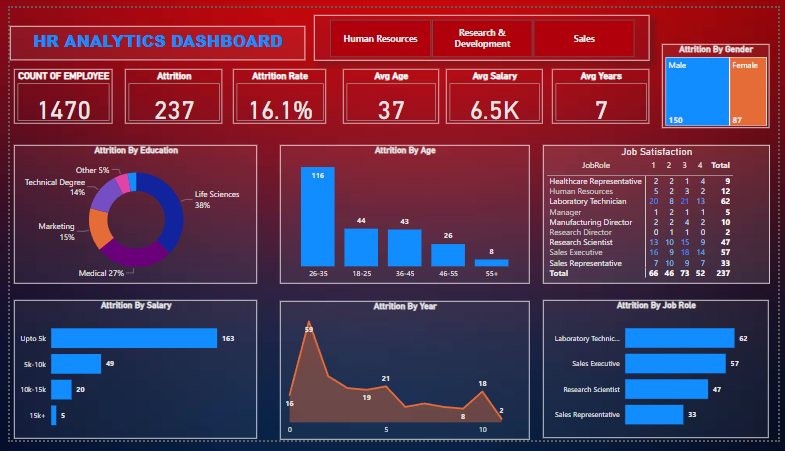

This screenshot's page, from the dashboard's own definition file:
{"tool":"powerbi","page":{"name":"Page 1","canvas":[1280,720],"ordinal":0},"visuals":[{"type":"cardVisual","title":"COUNT OF EMPLOYEE","fields":{"Data":["CountNonNull(HR_Analytics.EmpID)"]},"box":[7.3,101,163.9,90.7],"z":0},{"type":"cardVisual","title":"Attrition","fields":{"Data":["Sum(HR_Analytics.AttritionCount)","Sum(HR_Analytics.AttritionCount)"]},"box":[191.7,101,162.4,90.7],"z":1000},{"type":"cardVisual","title":"Avg Age","fields":{"Data":["Avg(HR_Analytics.Age)"]},"box":[554.6,101,159.5,90.7],"z":2000},{"type":"cardVisual","title":"Attrition Rate","fields":{"Data":["HR_Analytics.AttritionRate"]},"box":[371.7,101,155.1,90.7],"z":3000},{"type":"cardVisual","title":"Avg Salary","fields":{"Data":["Avg(HR_Analytics.MonthlyIncome)"]},"box":[727.3,101,161,90.7],"z":4000},{"type":"cardVisual","title":"Avg Years","fields":{"Data":["Avg(HR_Analytics.YearsAtCompany)"]},"box":[902.9,101,162.4,90.7],"z":5000},{"type":"donutChart","title":"Attrition By Education","fields":{"Category":["HR_Analytics.EducationField"],"Y":["Sum(HR_Analytics.AttritionCount)"]},"box":[7.3,228.3,405.4,231.2],"z":6000},{"type":"pivotTable","title":"Job Satisfaction","fields":{"Rows":["HR_Analytics.JobRole"],"Columns":["HR_Analytics.JobSatisfaction"],"Values":["Sum(HR_Analytics.AttritionCount)"]},"box":[888.3,228.3,377.6,231.2],"z":8000},{"type":"columnChart","title":"Attrition By Age","fields":{"Category":["HR_Analytics.AgeGroup"],"Y":["Sum(HR_Analytics.AttritionCount)"]},"box":[432.2,228.3,415.6,231.2],"z":8500},{"type":"barChart","title":"Attrition By Salary","fields":{"Category":["HR_Analytics.SalarySlab"],"Y":["Sum(HR_Analytics.AttritionCount)"]},"box":[7.3,485.9,405.4,231.2],"z":9000},{"type":"barChart","title":"Attrition By Job Role","fields":{"Y":["Sum(HR_Analytics.AttritionCount)"],"Category":["HR_Analytics.JobRole"]},"box":[888.3,485.9,376.1,229.8],"z":10000},{"type":"areaChart","title":"Attrition By Year","fields":{"Y":["Sum(HR_Analytics.AttritionCount)"],"Category":["HR_Analytics.YearsAtCompany"]},"box":[449.3,488.8,415.6,231.2],"z":11000},{"type":"treemap","title":"Attrition By Gender","fields":{"Values":["Sum(HR_Analytics.AttritionCount)"],"Group":["HR_Analytics.Gender"]},"box":[1087.3,60,178.5,140.5],"z":12000},{"type":"slicer","fields":{"Values":["HR_Analytics.Department"]},"box":[506.3,11.7,559,76.1],"z":13000},{"type":"textbox","box":[0,30.7,491.7,57.1],"z":14000}]}

Visuals, with their boxes in screenshot pixels (x1, y1, x2, y2), scaled from the page's 1280x720 canvas onto the 785x451 screenshot:
"COUNT OF EMPLOYEE" cardVisual: x1=4, y1=63, x2=105, y2=120
"Attrition" cardVisual: x1=118, y1=63, x2=217, y2=120
"Avg Age" cardVisual: x1=340, y1=63, x2=438, y2=120
"Attrition Rate" cardVisual: x1=228, y1=63, x2=323, y2=120
"Avg Salary" cardVisual: x1=446, y1=63, x2=545, y2=120
"Avg Years" cardVisual: x1=554, y1=63, x2=653, y2=120
"Attrition By Education" donutChart: x1=4, y1=143, x2=253, y2=288
"Job Satisfaction" pivotTable: x1=545, y1=143, x2=776, y2=288
"Attrition By Age" columnChart: x1=265, y1=143, x2=520, y2=288
"Attrition By Salary" barChart: x1=4, y1=304, x2=253, y2=449
"Attrition By Job Role" barChart: x1=545, y1=304, x2=775, y2=448
"Attrition By Year" areaChart: x1=276, y1=306, x2=530, y2=450
"Attrition By Gender" treemap: x1=667, y1=38, x2=776, y2=126
slicer - HR_Analytics.Department: x1=311, y1=7, x2=653, y2=55
textbox: x1=0, y1=19, x2=302, y2=55
